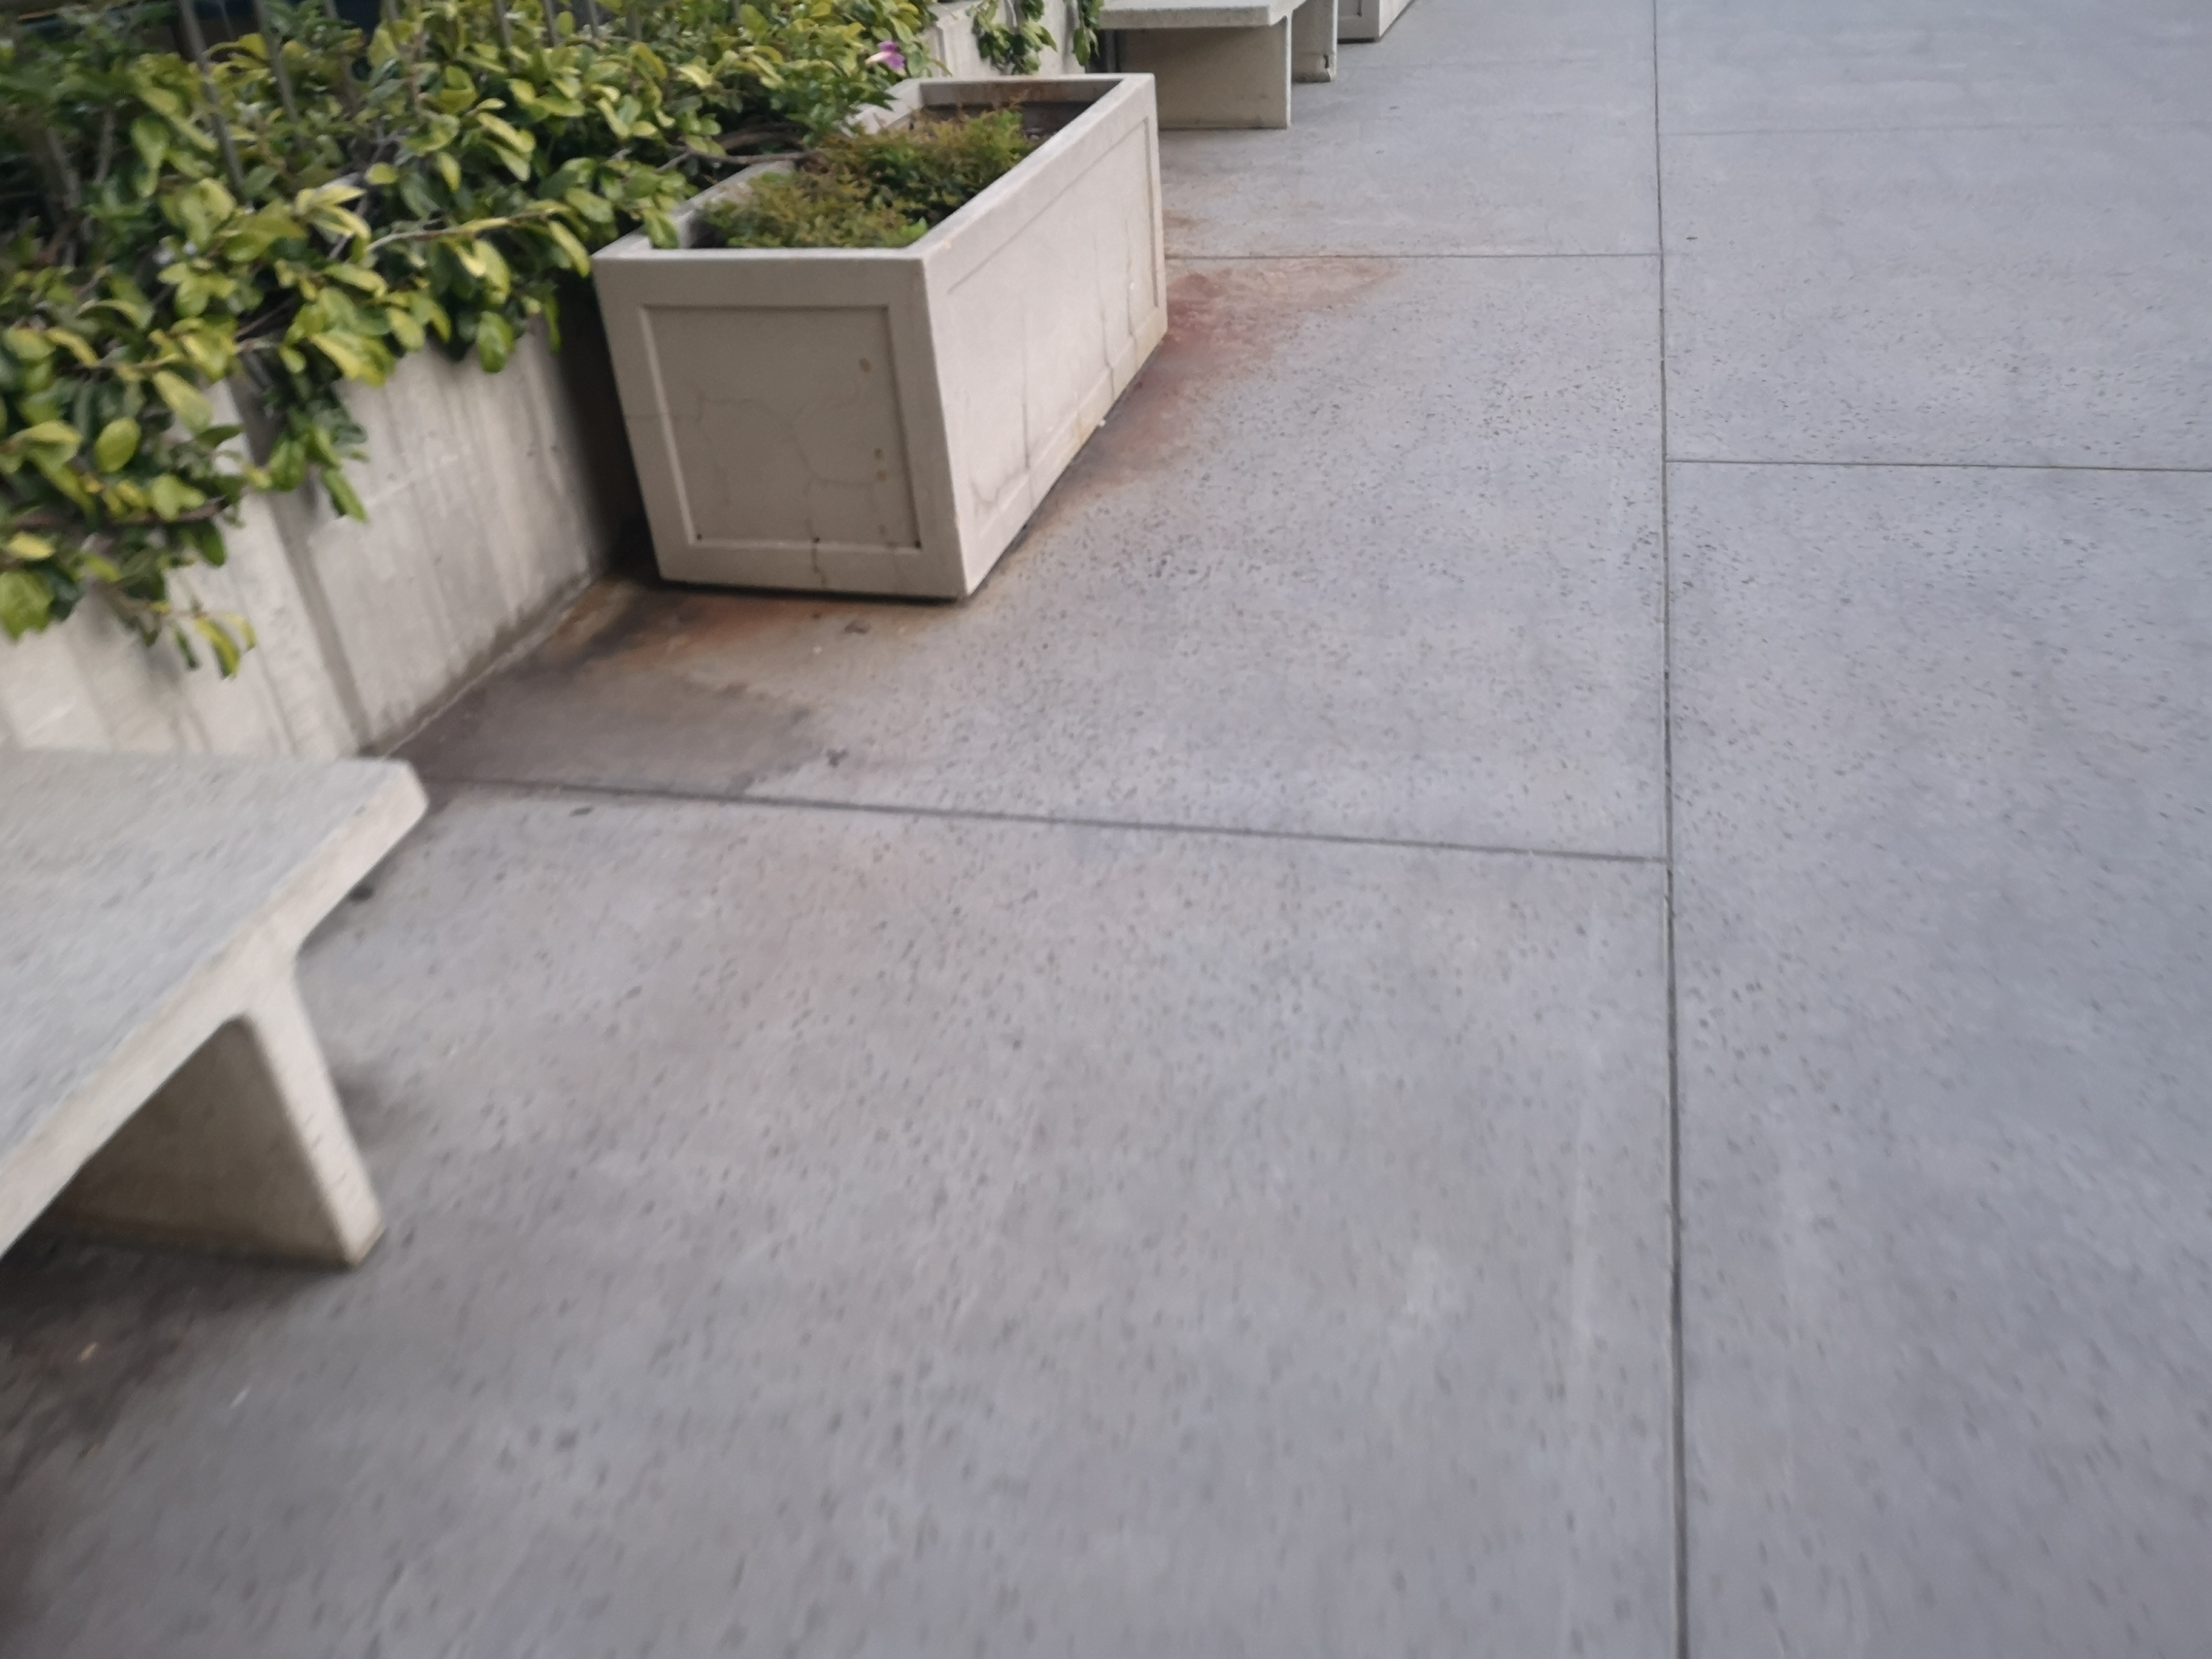Obstacle: (0, 744, 430, 1344), (662, 152, 1228, 603), (981, 23, 1291, 162)
